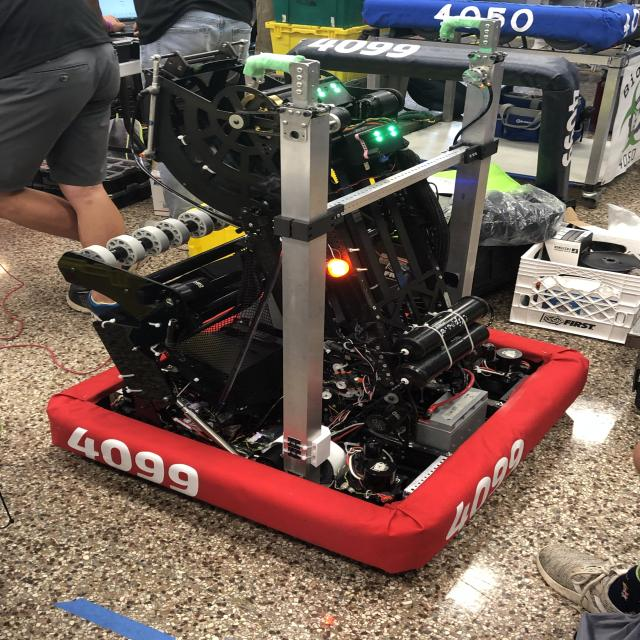robot: (44, 15, 593, 576)
